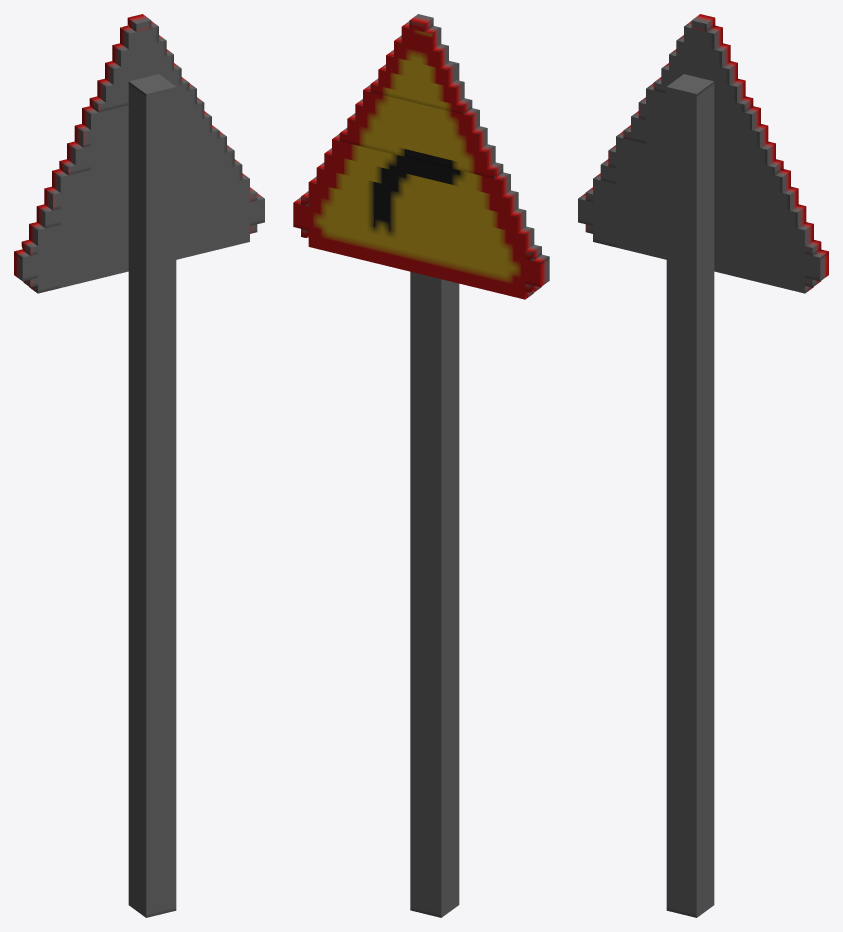
3 views of the same model, side by side, from view 1: azimuth 30°, elevation 25°; view 2: azimuth 150°, elevation 25°; view 3: azimuth 330°, elevation 25° (orthographic). The views are drawn at different scales.
Visible parts, largest first — view 1: Content; view 2: Content; view 3: Content.
Part boxes in pixels (x1=…): Content: x1=14, y1=14, x2=264, y2=917; Content: x1=293, y1=14, x2=549, y2=917; Content: x1=578, y1=14, x2=828, y2=917.
Size of the model in its own units: 32 by 111 by 6.
1 material, 1 textured.
